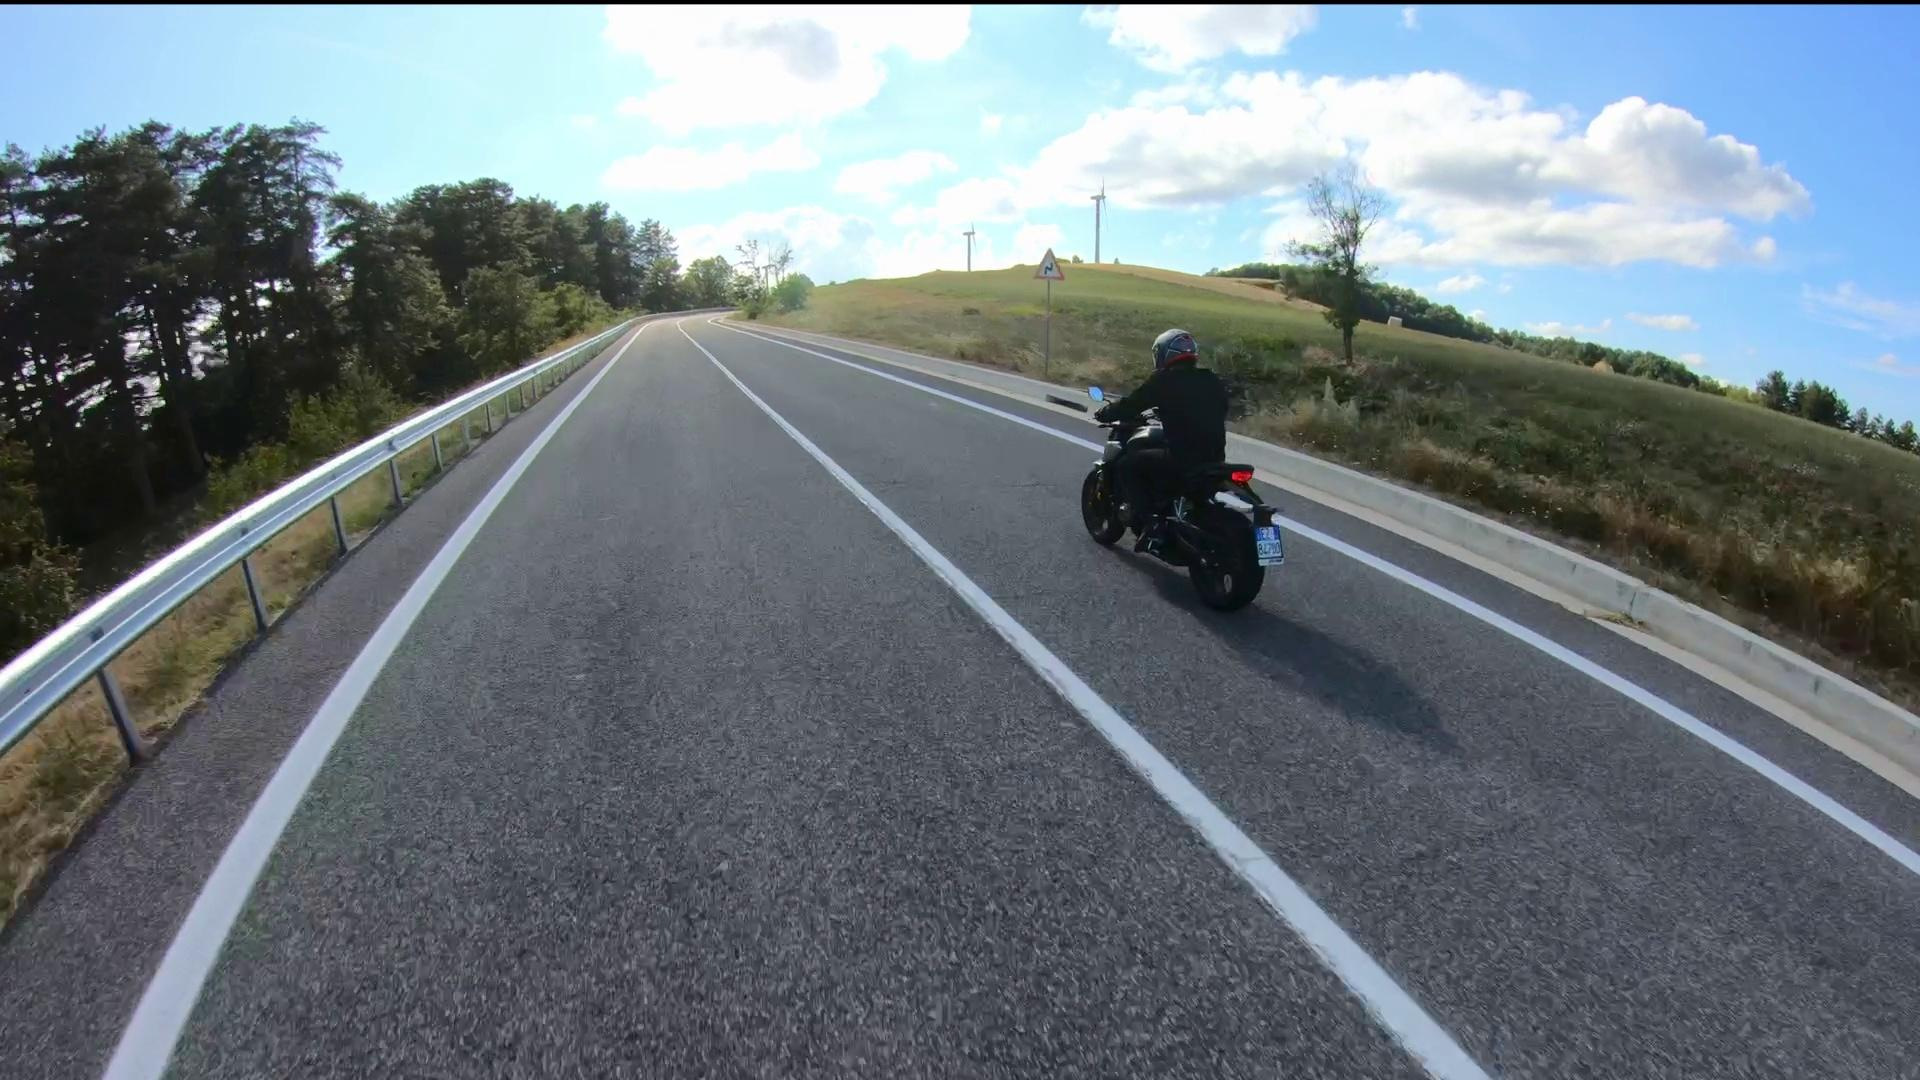cow: (1080, 375, 1285, 615)
horse: (1095, 325, 1230, 540)
